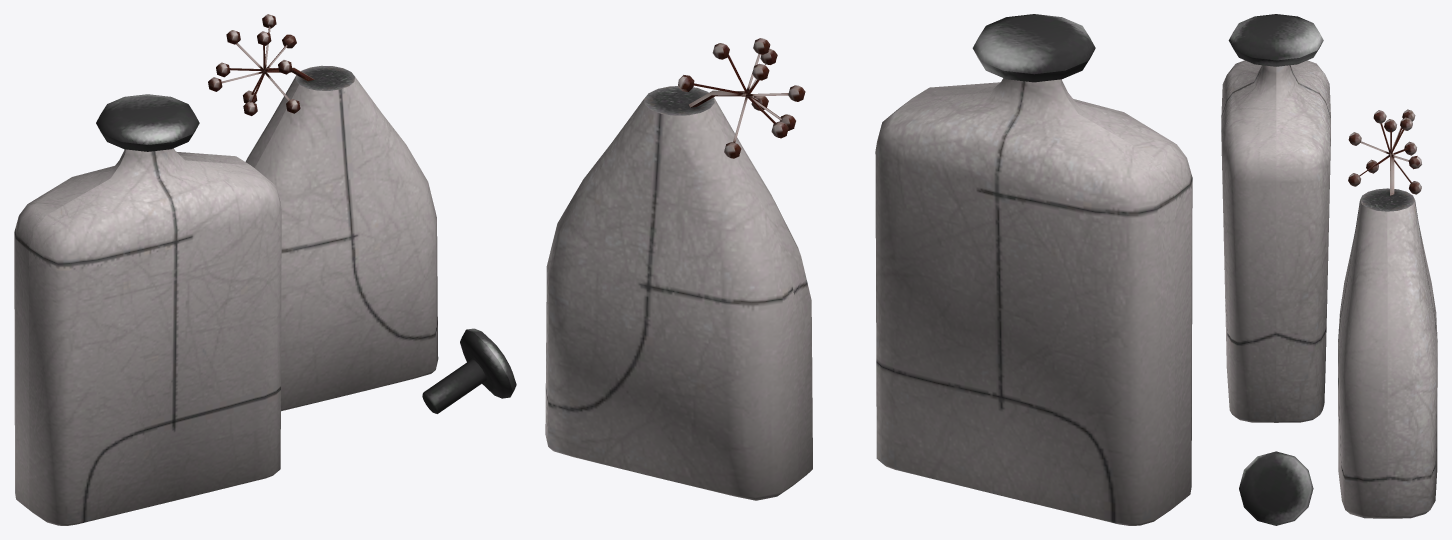
Rendered from Vase3.a.fbx.
The picture shows the model from 3 angles, left to right: view 1: azimuth 30°, elevation 25°; view 2: azimuth 150°, elevation 25°; view 3: azimuth 270°, elevation 25°; orthographic projection. The views are drawn at different scales.
Parts seen in each view (by area): view 1: Group 0; view 2: Group 0; view 3: Group 0.
Boxes of the visible parts, x1,y1,x2,y2 form: Group 0: (14, 14, 516, 525); Group 0: (545, 14, 1192, 525); Group 0: (1221, 14, 1437, 525).
Size of the model in its own units: 52.11 by 39.1 by 22.31.
1 material, 1 textured.
